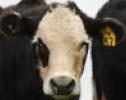muzzles: (42, 73, 80, 99)
